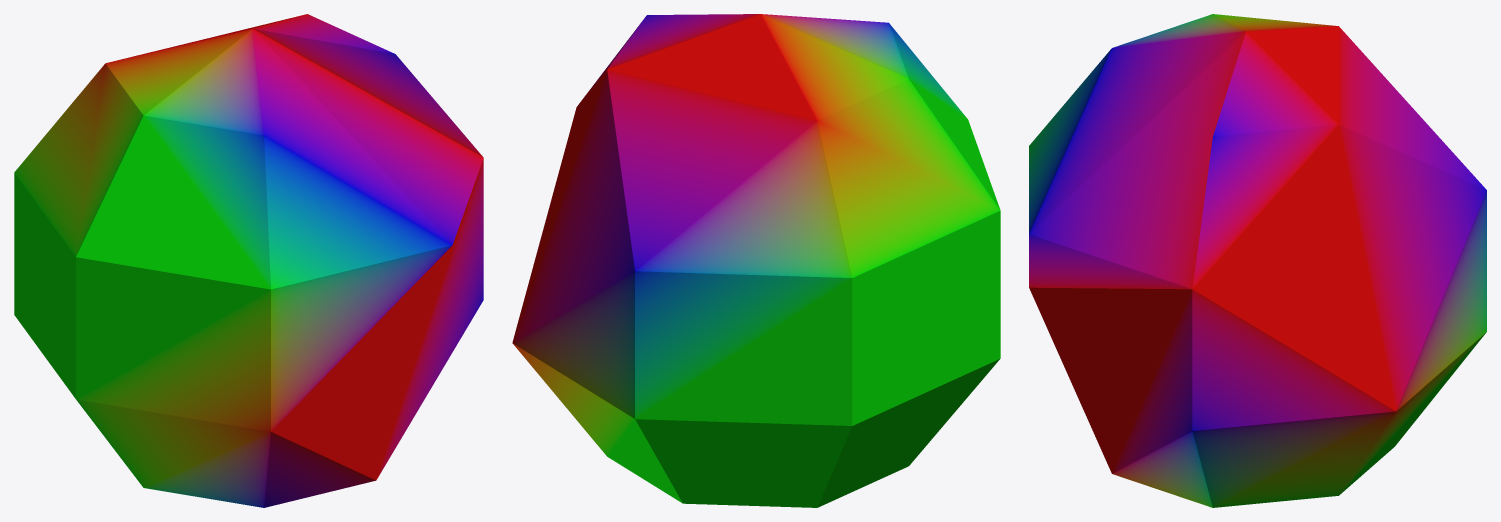
The model's file is after_decimating_conquest_1_6.obj.
The picture shows the model from 3 angles, left to right: view 1: azimuth 30°, elevation 25°; view 2: azimuth 150°, elevation 25°; view 3: azimuth 270°, elevation 25°; orthographic projection. The views are drawn at different scales.
Bounding box in the file's own units: 1.85 × 2 × 1.81.
